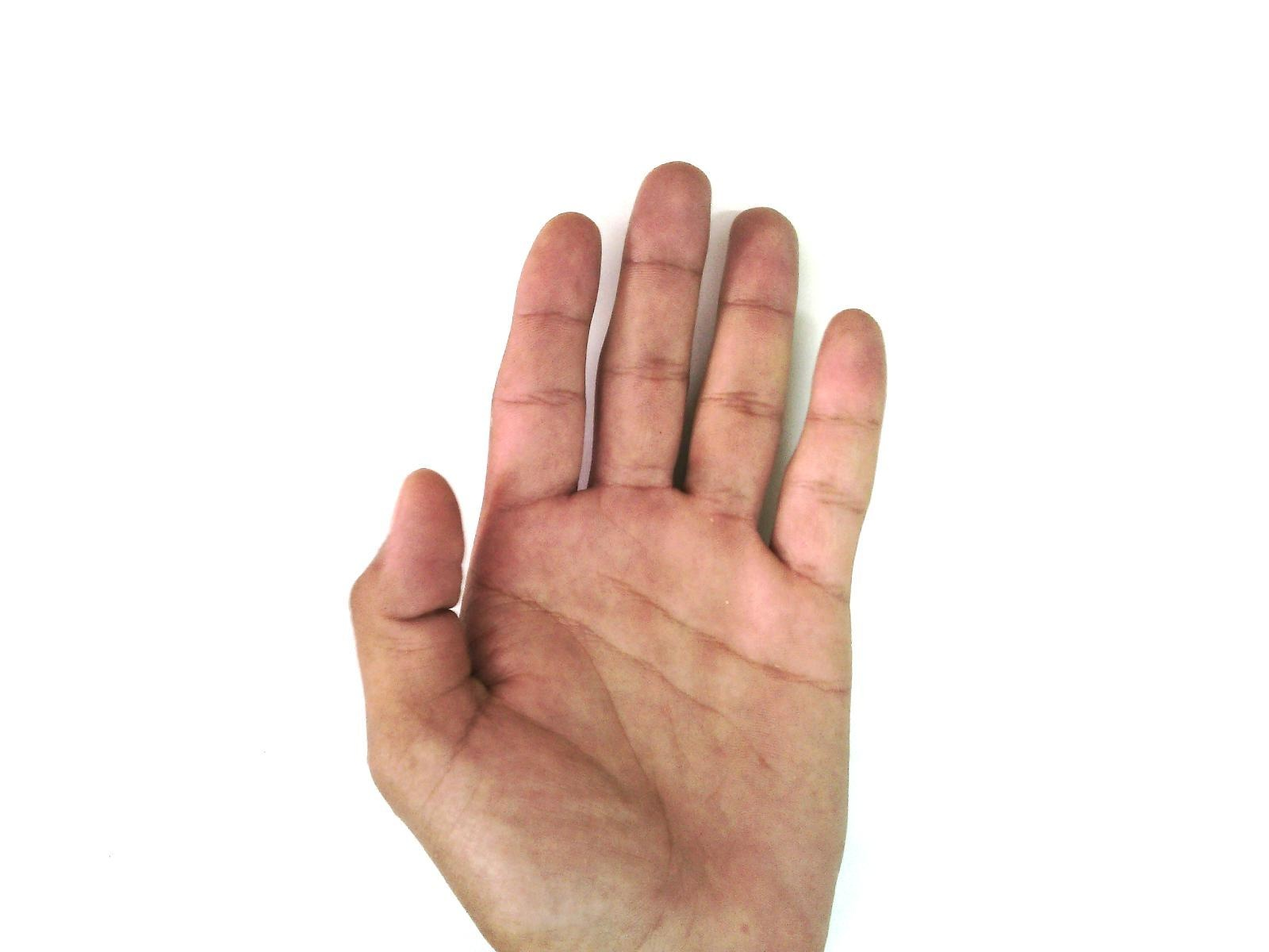open_palm: (347, 160, 891, 952)
